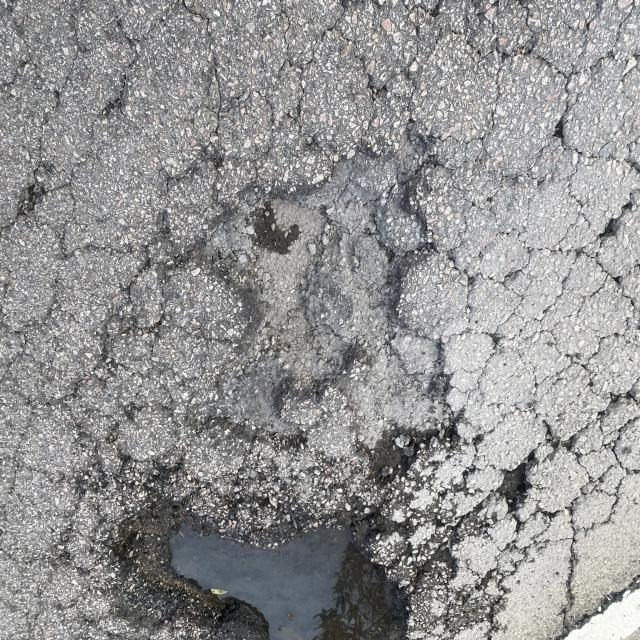Pothole: (242, 118, 466, 412), (100, 438, 418, 640)
